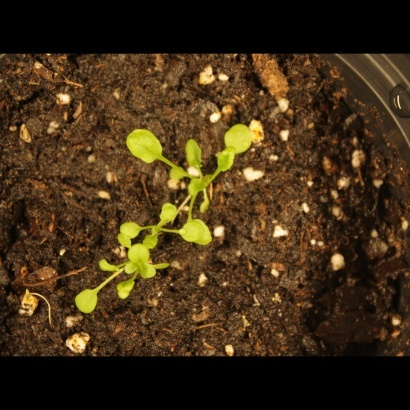leaf: (124, 126, 168, 170), (223, 121, 257, 152), (183, 136, 210, 174), (181, 219, 216, 247), (216, 146, 243, 176), (73, 286, 100, 315), (156, 201, 179, 227), (119, 216, 144, 239), (164, 162, 187, 185), (198, 194, 221, 217), (185, 175, 208, 198), (110, 228, 133, 251), (95, 255, 118, 278), (116, 278, 139, 301), (143, 228, 166, 251), (128, 243, 151, 266), (155, 252, 178, 275), (136, 262, 159, 285)
